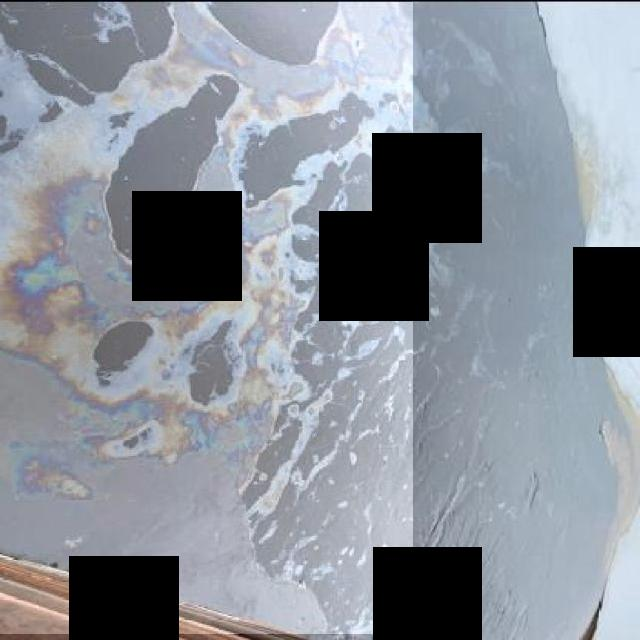oil spill: (0, 3, 413, 634)
